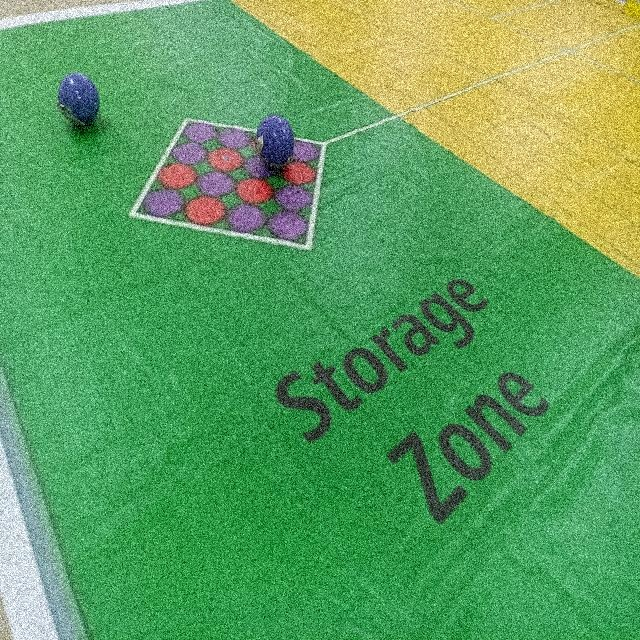purple_ball: (58, 74, 99, 126), (256, 115, 294, 166)
